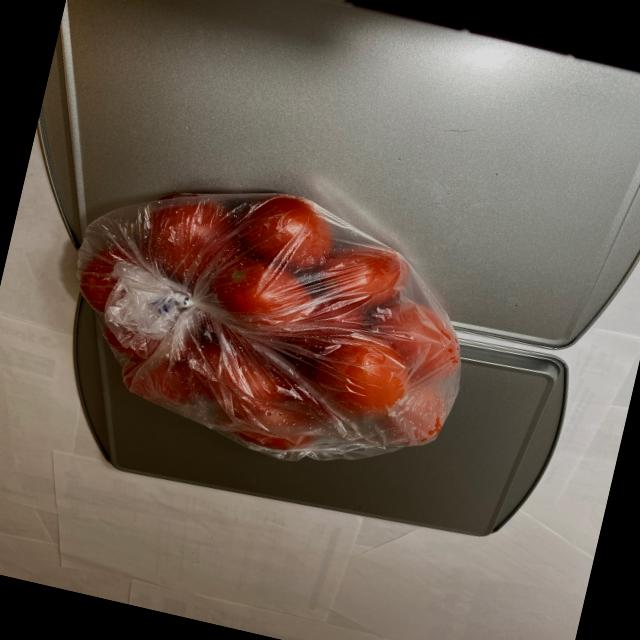tomato: (41, 155, 493, 477)
